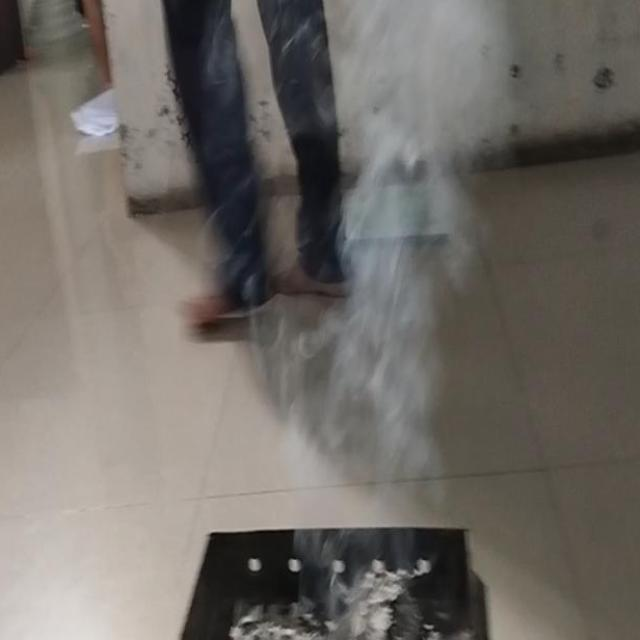fire: (326, 0, 492, 457)
